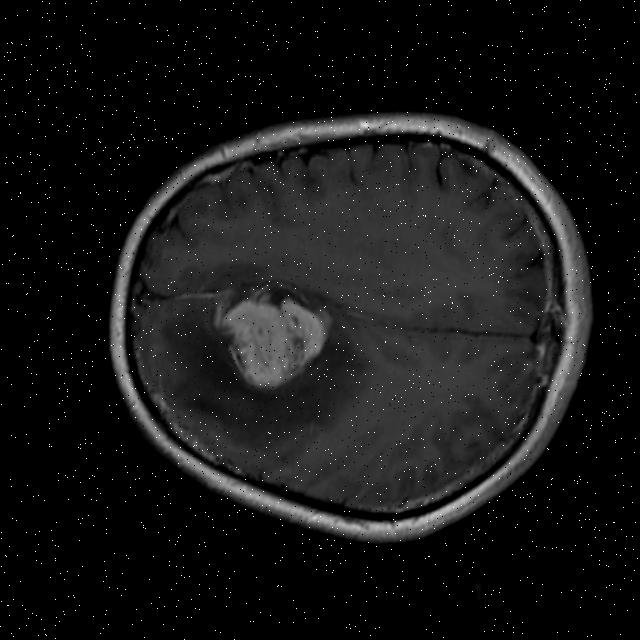Meningioma: (206, 277, 339, 405)
